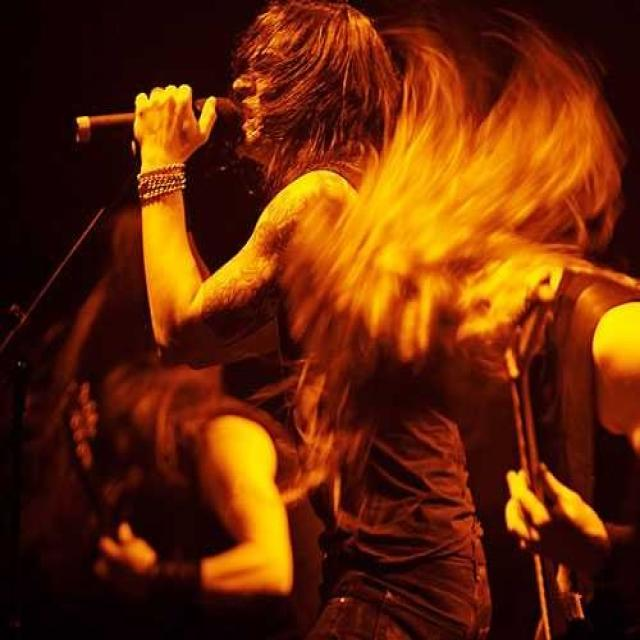microphone: (77, 89, 246, 149)
